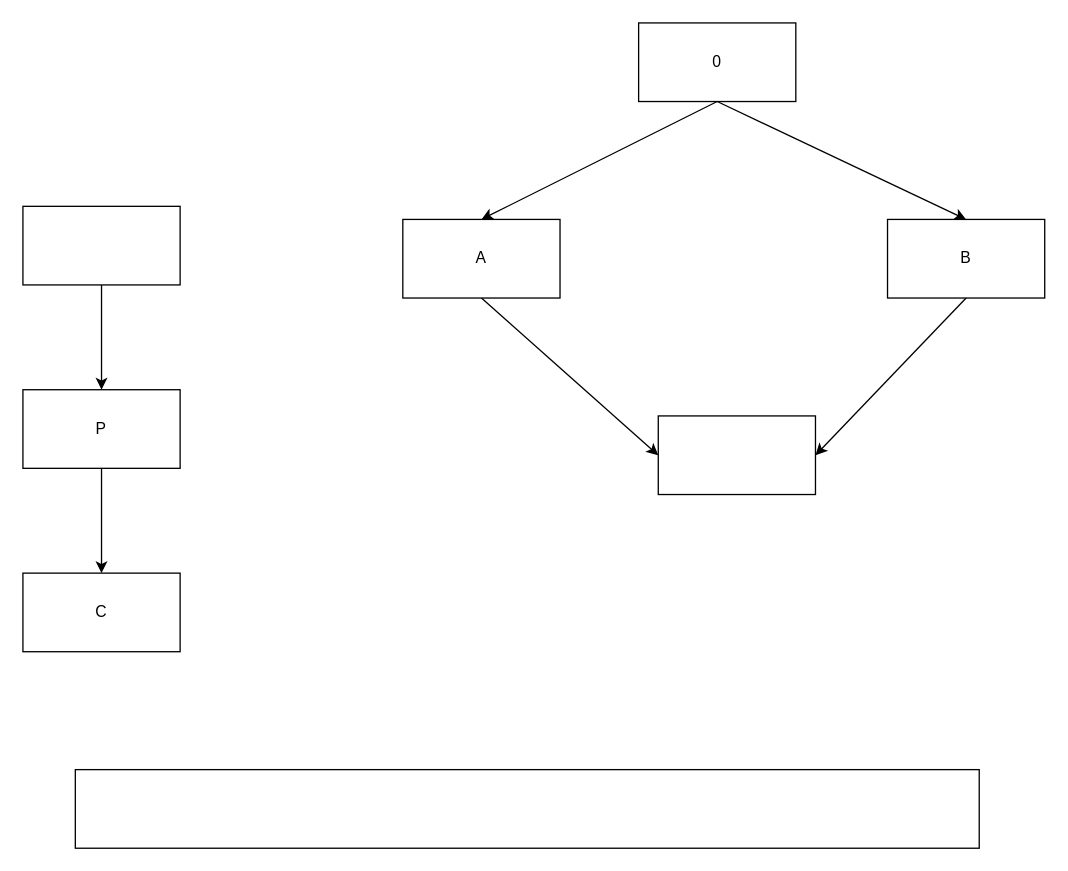
This 1068x871 diagram has some shape labels left out. Here are the shapes that lost their labels. From the top down, the centre of each, then its label:
At (101,245): "GP".
At (736,455): "AB".
